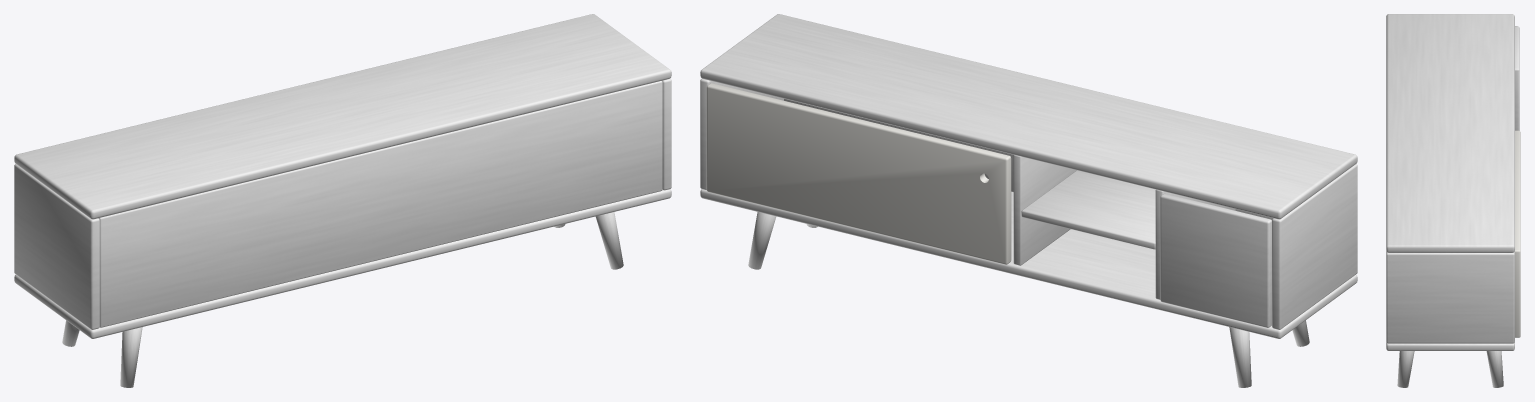
File: tv-stand-wood.glb
3 renders of one model, left to right at view 1: azimuth 30°, elevation 25°; view 2: azimuth 150°, elevation 25°; view 3: azimuth 270°, elevation 25°, orthographic. The views are drawn at different scales.
Visible parts, largest first — view 1: Cabinet rear, Cabinet top and base.001, Cabinet side, Cabinet top and base, Cabinet side.001, Splayed cabinet leg, Splayed cabinet leg.002; view 2: Cabinet top and base.001, Sliding warm-white door, Small timber door, Cabinet top and base, Cabinet side, Open compartment shelf, Shelf divider.001, Splayed cabinet leg.001, Cabinet side.001, Splayed cabinet leg.003, Shelf divider, Cabinet rear; view 3: Cabinet top and base.001, Cabinet side.001, Sliding warm-white door, Cabinet top and base, Small timber door, Splayed cabinet leg.003, Splayed cabinet leg.002.
Part boxes in pixels (x1,y1,x2,y2): Cabinet rear: (98, 81, 662, 327); Cabinet top and base.001: (14, 14, 671, 219); Cabinet side: (14, 164, 99, 329); Cabinet top and base: (14, 189, 671, 338); Cabinet side.001: (662, 78, 671, 190); Splayed cabinet leg: (120, 327, 142, 387); Splayed cabinet leg.002: (595, 212, 623, 269); Cabinet top and base.001: (700, 14, 1357, 219); Sliding warm-white door: (706, 83, 1011, 264); Small timber door: (1160, 193, 1271, 327); Cabinet top and base: (700, 189, 1357, 338); Cabinet side: (1272, 164, 1357, 329); Open compartment shelf: (1021, 170, 1155, 249); Shelf divider.001: (1013, 155, 1076, 265); Splayed cabinet leg.001: (1229, 327, 1251, 387); Cabinet side.001: (700, 78, 783, 190); Splayed cabinet leg.003: (748, 212, 776, 269); Shelf divider: (1155, 189, 1235, 299); Cabinet rear: (784, 99, 1273, 219); Cabinet top and base.001: (1386, 14, 1514, 252); Cabinet side.001: (1386, 252, 1514, 343); Sliding warm-white door: (1514, 130, 1520, 337); Cabinet top and base: (1386, 251, 1514, 350); Small timber door: (1515, 26, 1519, 130); Splayed cabinet leg.003: (1486, 351, 1503, 387); Splayed cabinet leg.002: (1397, 351, 1414, 387).
Bounding box in the file's own units: 1.8 × 0.5758 × 0.439.
Materials: 2 (1 with a texture image).
